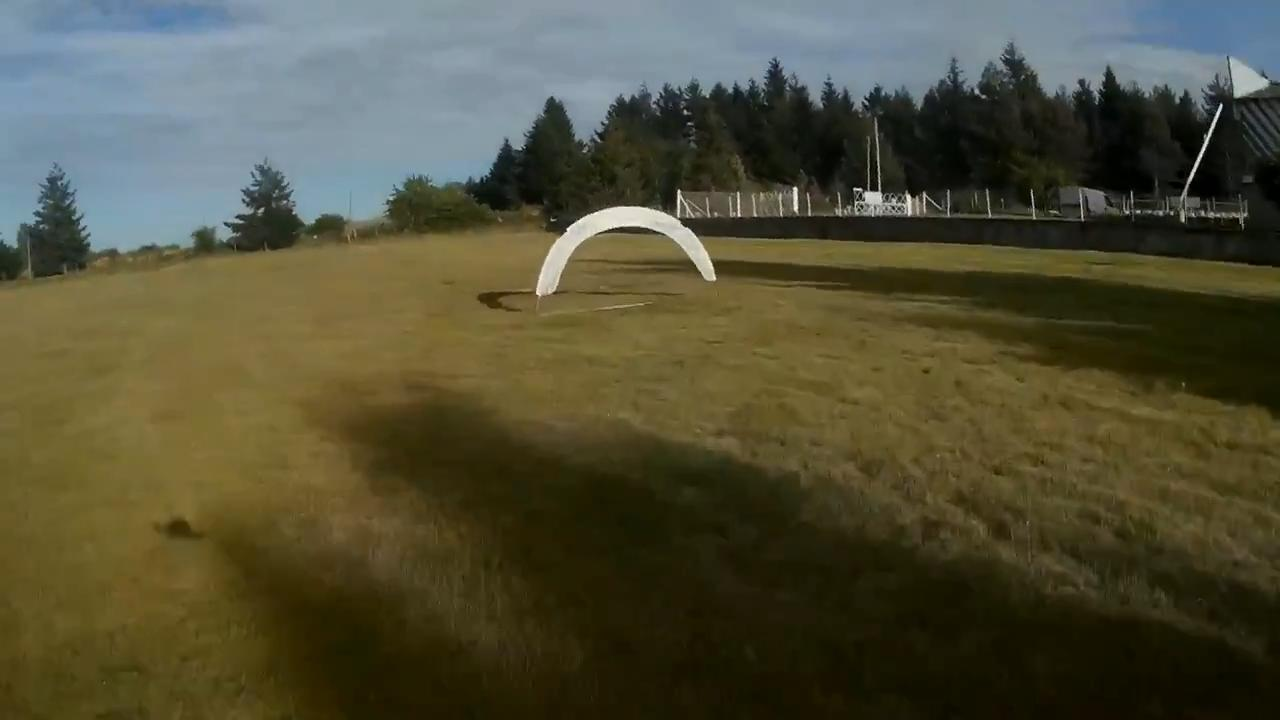gate: (537, 205, 715, 299)
